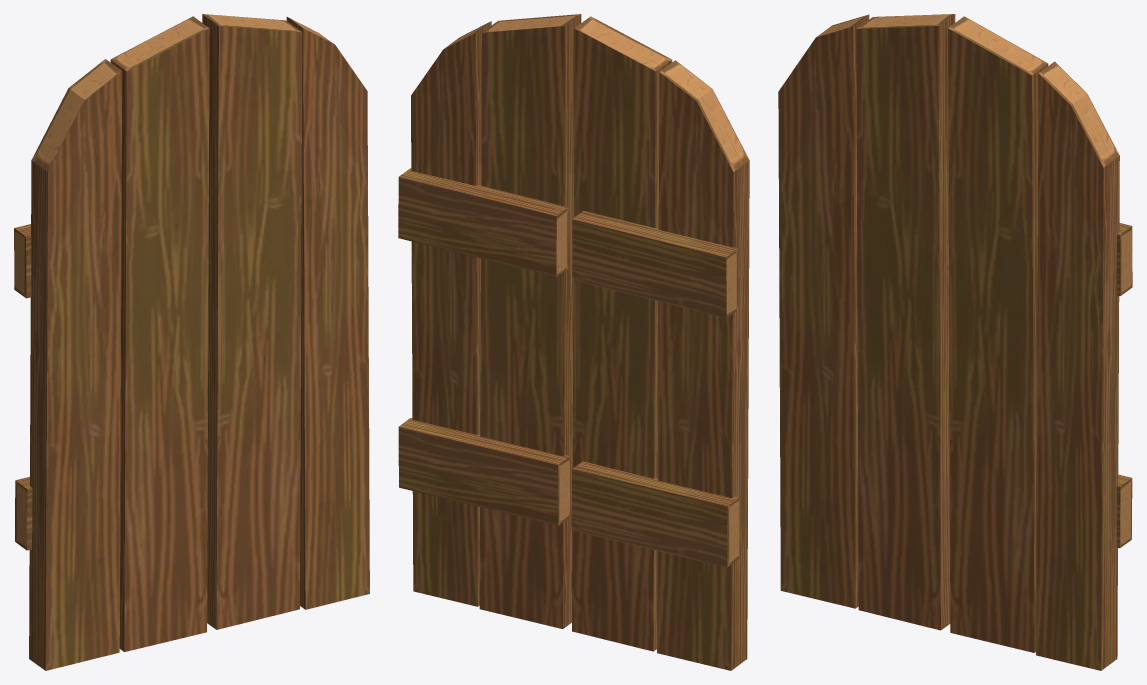
The model's file is windowshutters_thin_round_closed.glb.
The picture shows the model from 3 angles, left to right: view 1: azimuth 30°, elevation 25°; view 2: azimuth 150°, elevation 25°; view 3: azimuth 330°, elevation 25°; orthographic projection.
Size of the model in its own units: 0.8674 by 1.52 by 0.1358.
Materials: 1 (1 with a texture image).
